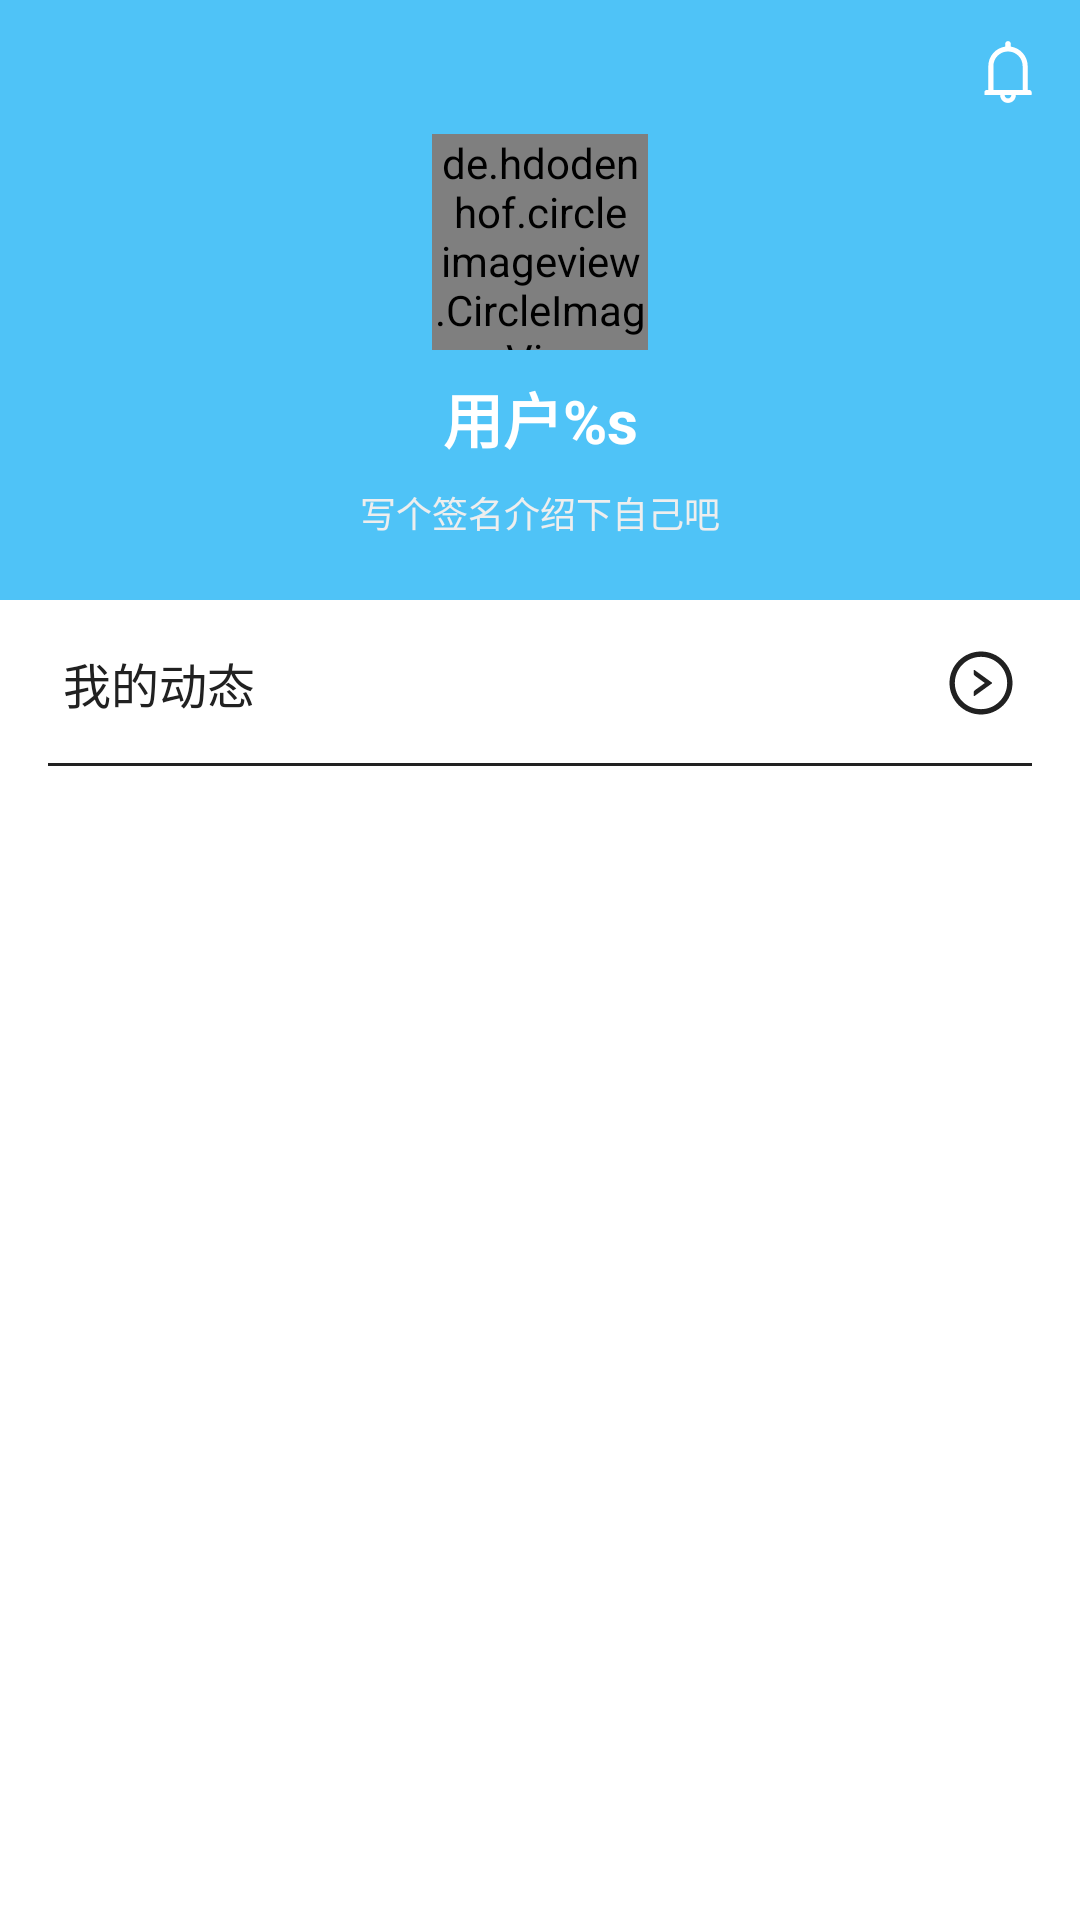

Where icons sit on this 1080px x 1920px app screen, as {"x1": x1, "y1": y1, "x2": x2, "y2": y2}:
notice: {"x1": 984, "y1": 41, "x2": 1032, "y2": 103}
right circle: {"x1": 949, "y1": 651, "x2": 1013, "y2": 715}
